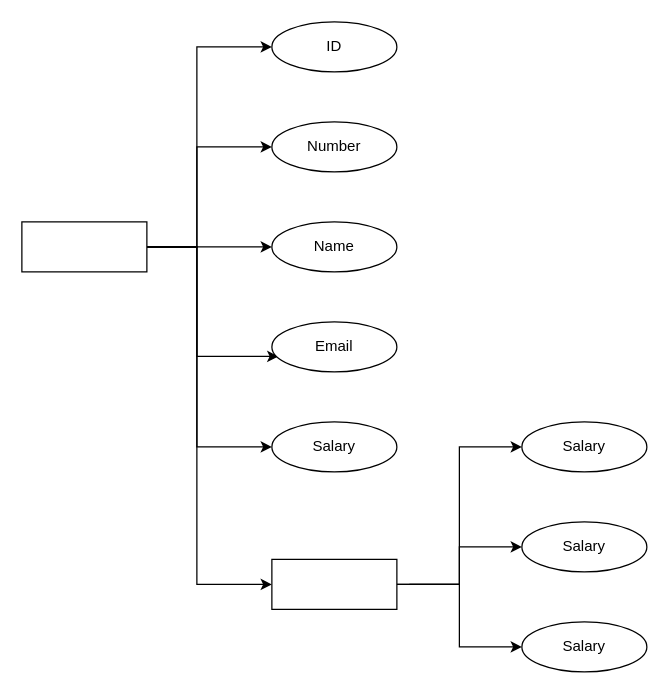
Image size: 669x694. Some labels were removed from this diagram. The centre of each missing label's shape, as x and y in pixels:
"Department" belongs at point 334,583.
"Employe" belongs at point 84,246.
